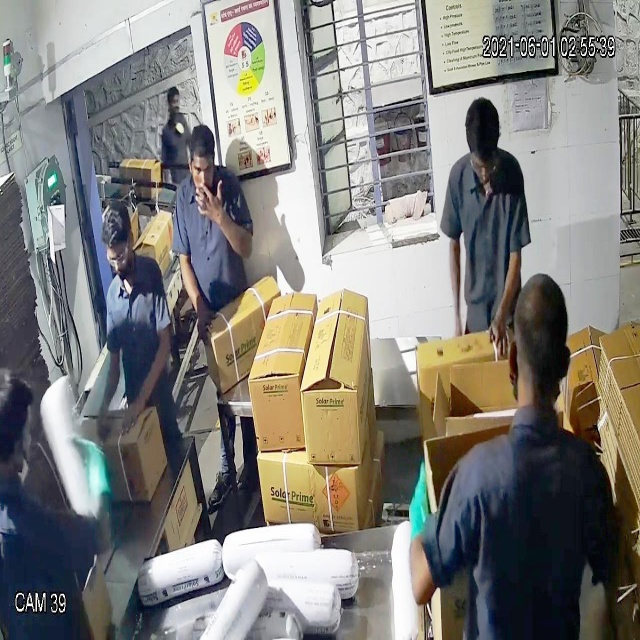Gafas: (102, 237, 133, 276)
